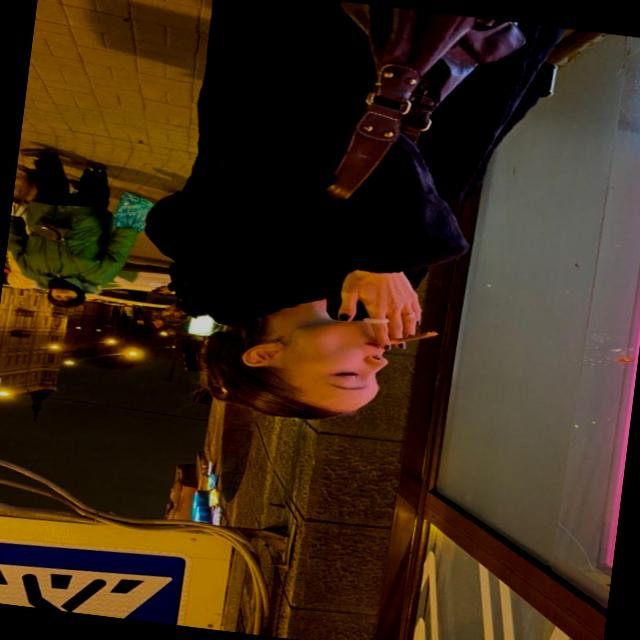cigarette: (360, 308, 469, 370)
